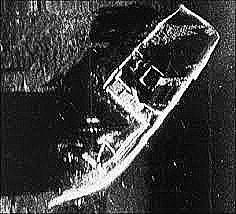ship: (47, 5, 222, 207)
